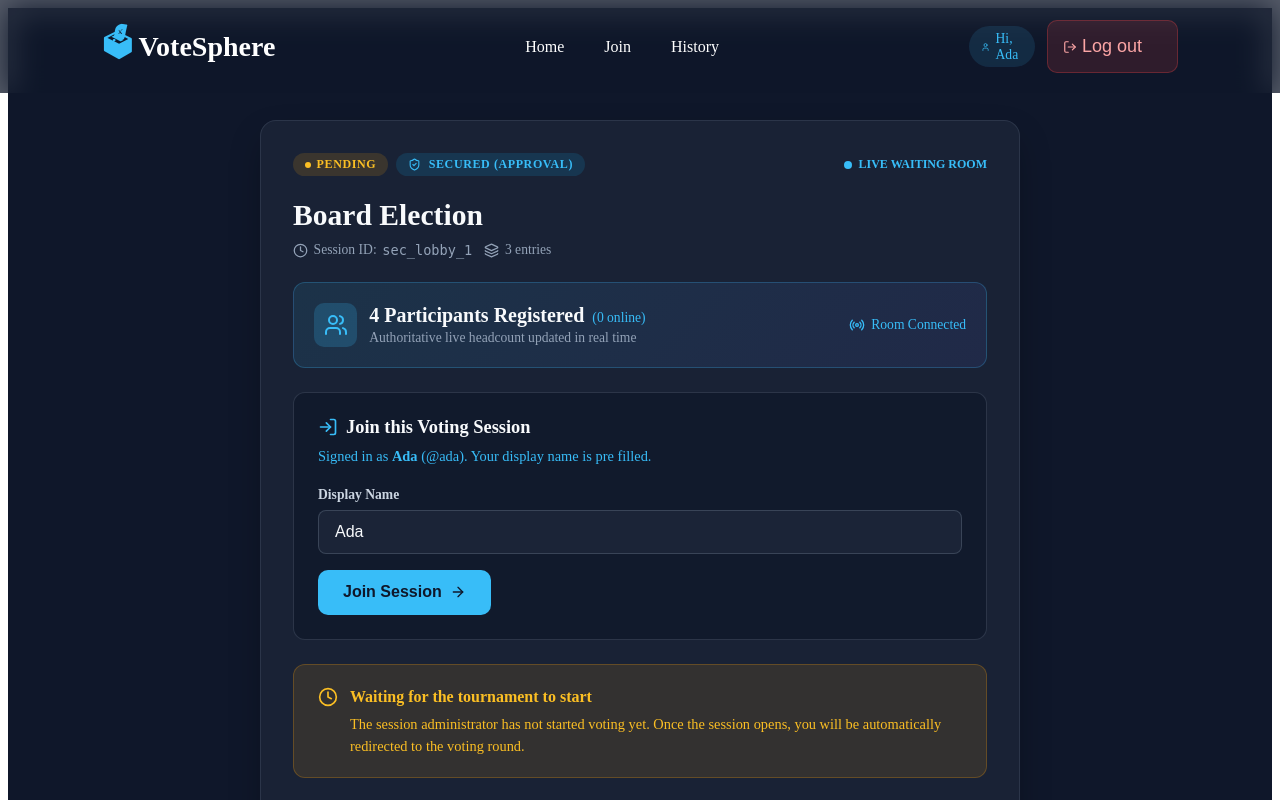
Scenario: Secured session lobby join form (AC-5, AC-15) › reports a rejected request in plain words and does not offer a re request silently
The image size is (1280, 800).
Click the button "Join Session": click(404, 592) left=318, top=570, right=491, bottom=615
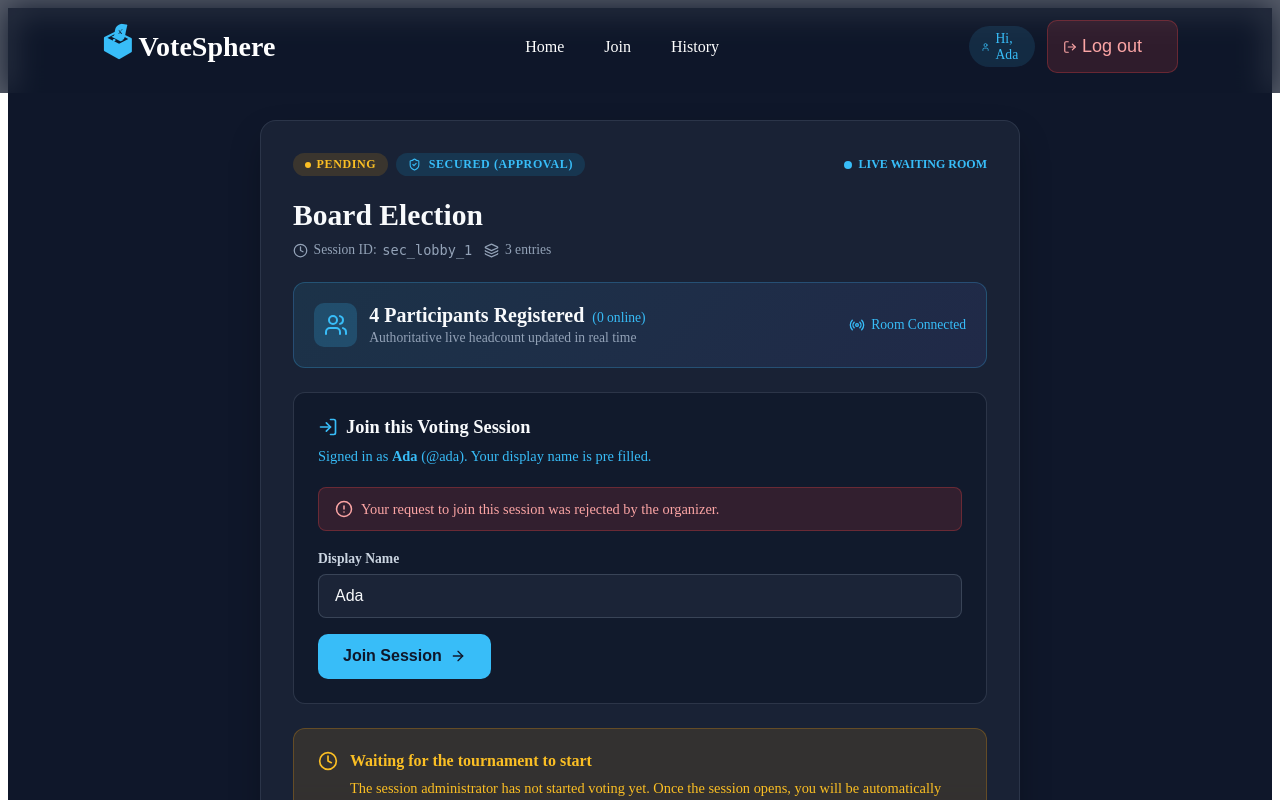
Now the message shows "rejected by the organizer", box left=361, top=501, right=719, bottom=517
